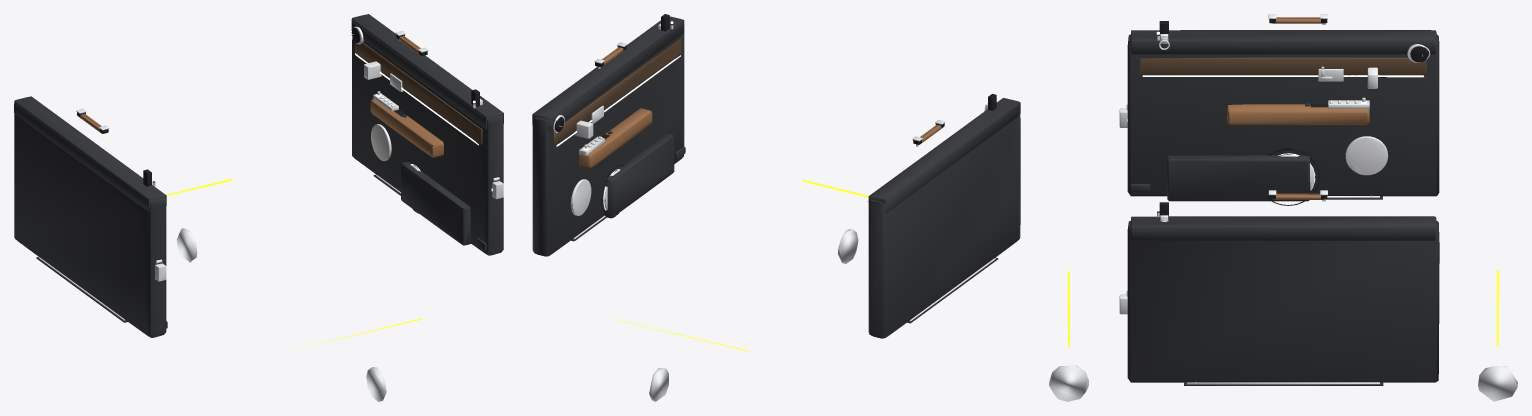
Rendered from door_cards_executive.glb.
The picture shows the model from 3 angles, left to right: view 1: azimuth 30°, elevation 25°; view 2: azimuth 150°, elevation 25°; view 3: azimuth 270°, elevation 25°; orthographic projection. The views are drawn at different scales.
Visible parts, largest first — view 1: Door_Main_Body_L, Door_Main_Body_R, Door_Upper_Waistline_L, Door_Upper_Waistline_R, Door_Lower_Map_Pocket_R, Door_Wood_Spear_R, Door_Floating_Armrest_R, GEO_Door_SpeakerGrilles, Door_HighEnd_Acoustic_R_OuterBezel; view 2: Door_Main_Body_L, Door_Main_Body_R, Door_Upper_Waistline_L, Door_Upper_Waistline_R, Door_Lower_Map_Pocket_R, Door_Wood_Spear_R, Door_Floating_Armrest_R, GEO_Door_SpeakerGrilles, Door_HighEnd_Acoustic_R_OuterBezel; view 3: Door_Main_Body_R, Door_Main_Body_L, Door_Upper_Waistline_R, Door_Upper_Waistline_L, Door_Lower_Map_Pocket_L, Door_Wood_Spear_L, Door_Floating_Armrest_L, GEO_Door_SpeakerGrilles, Door_HighEnd_Acoustic_L_OuterBezel, Door_Sill_Kickplate_R_MainPlate, Door_Ambient_Lightguide_L, GEO_Door_AmbientContourStrip.
Boxes of the visible parts, box(x1,y1,x2,y2) form: Door_Main_Body_L: box(14, 114, 166, 337); Door_Main_Body_R: box(352, 37, 503, 255); Door_Upper_Waistline_L: box(14, 96, 166, 211); Door_Upper_Waistline_R: box(351, 14, 503, 129); Door_Lower_Map_Pocket_R: box(401, 161, 470, 245); Door_Wood_Spear_R: box(354, 42, 482, 144); Door_Floating_Armrest_R: box(370, 99, 443, 157); GEO_Door_SpeakerGrilles: box(176, 228, 386, 401); Door_HighEnd_Acoustic_R_OuterBezel: box(371, 124, 391, 160); Door_Main_Body_L: box(868, 115, 1020, 338); Door_Main_Body_R: box(532, 32, 684, 256); Door_Upper_Waistline_L: box(868, 98, 1020, 212); Door_Upper_Waistline_R: box(532, 16, 684, 130); Door_Lower_Map_Pocket_R: box(604, 134, 674, 217); Door_Wood_Spear_R: box(553, 38, 681, 145); Door_Floating_Armrest_R: box(579, 108, 652, 168); GEO_Door_SpeakerGrilles: box(649, 229, 858, 401); Door_HighEnd_Acoustic_R_OuterBezel: box(570, 179, 591, 215); Door_Main_Body_R: box(1127, 221, 1439, 382); Door_Main_Body_L: box(1127, 34, 1439, 196); Door_Upper_Waistline_R: box(1130, 216, 1436, 240); Door_Upper_Waistline_L: box(1130, 30, 1436, 54); Door_Lower_Map_Pocket_L: box(1167, 155, 1310, 201); Door_Wood_Spear_L: box(1140, 57, 1426, 74); Door_Floating_Armrest_L: box(1227, 104, 1369, 124); GEO_Door_SpeakerGrilles: box(1049, 365, 1517, 401); Door_HighEnd_Acoustic_L_OuterBezel: box(1345, 136, 1388, 175); Door_Sill_Kickplate_R_MainPlate: box(1187, 382, 1379, 384); Door_Ambient_Lightguide_L: box(1142, 75, 1423, 77); GEO_Door_AmbientContourStrip: box(1067, 270, 1499, 346).
Size of the model in its own units: 1.57 by 1.05 by 1.57.
